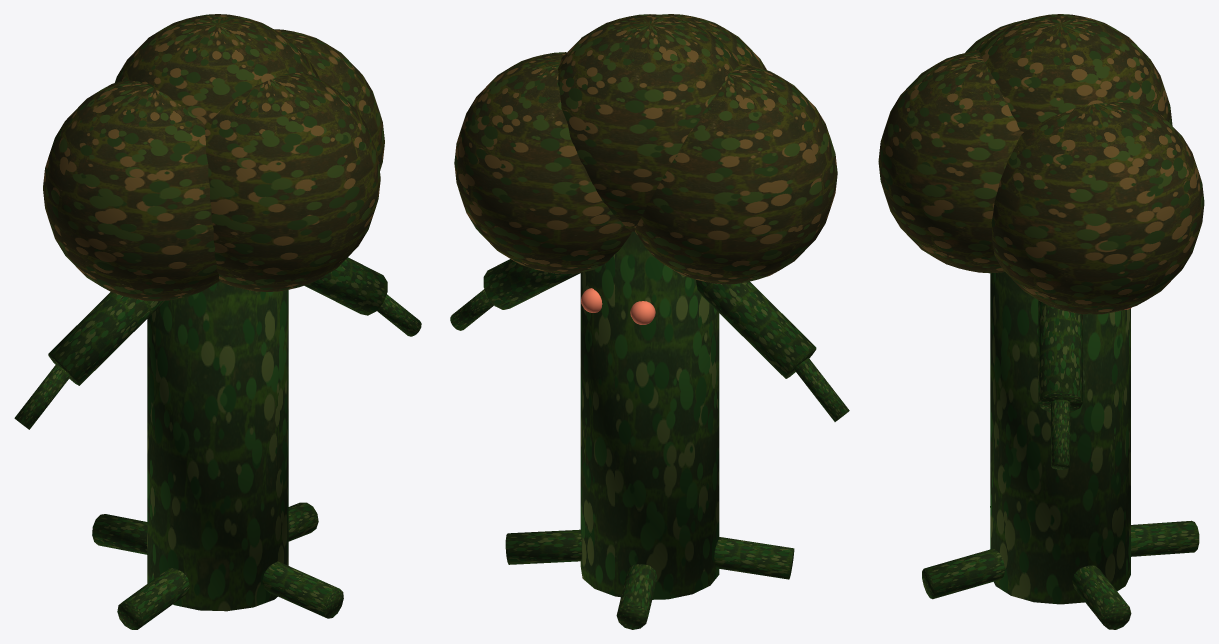
File: leshy.glb
The picture shows the model from 3 angles, left to right: view 1: azimuth 30°, elevation 25°; view 2: azimuth 150°, elevation 25°; view 3: azimuth 270°, elevation 25°; orthographic projection.
Visible parts, largest first — view 1: Trunk, Canopy.003, Canopy.002, Canopy, BranchArm, Canopy.001, BranchArm.001, Root.003, Root.002, Root.001, Twig, Root (+1 smaller); view 2: Trunk, Canopy.002, Canopy.001, Canopy, BranchArm, BranchArm.001, Root.002, Root, Root.001, Twig, Canopy.003, Twig.001; view 3: Canopy.001, Trunk, Canopy.003, Canopy, BranchArm.001, Root.003, Root.001, Root, Twig.001.
Boxes of the visible parts, left/top/right/bottom form: Trunk: left=147, top=281, right=288, bottom=611; Canopy.003: left=204, top=72, right=380, bottom=291; Canopy.002: left=43, top=80, right=219, bottom=301; Canopy: left=115, top=14, right=319, bottom=124; BranchArm: left=48, top=292, right=164, bottom=385; Canopy.001: left=274, top=29, right=384, bottom=170; BranchArm.001: left=304, top=257, right=387, bottom=315; Root.003: left=262, top=561, right=343, bottom=618; Root.002: left=117, top=567, right=189, bottom=629; Root.001: left=92, top=514, right=147, bottom=554; Twig: left=14, top=364, right=70, bottom=429; Root: left=288, top=502, right=318, bottom=541; Trunk: left=580, top=231, right=719, bottom=599; Canopy.002: left=635, top=63, right=837, bottom=284; Canopy.001: left=454, top=52, right=631, bottom=273; Canopy: left=558, top=14, right=741, bottom=231; BranchArm: left=696, top=280, right=816, bottom=378; BranchArm.001: left=483, top=259, right=580, bottom=309; Root.002: left=714, top=537, right=794, bottom=579; Root: left=505, top=529, right=581, bottom=564; Root.001: left=616, top=564, right=657, bottom=629; Twig: left=794, top=358, right=849, bottom=421; Canopy.003: left=661, top=14, right=766, bottom=69; Twig.001: left=450, top=289, right=493, bottom=330; Canopy.001: left=991, top=101, right=1204, bottom=314; Trunk: left=990, top=272, right=1130, bottom=604; Canopy.003: left=878, top=50, right=1021, bottom=273; Canopy: left=979, top=14, right=1172, bottom=133; BranchArm.001: left=1038, top=300, right=1082, bottom=412; Root.003: left=922, top=548, right=1004, bottom=599; Root.001: left=1131, top=520, right=1199, bottom=556; Root: left=1072, top=565, right=1131, bottom=629; Twig.001: left=1051, top=399, right=1070, bottom=469.
Size of the model in its own units: 0.7592 by 1 by 0.5368.
Materials: 3 (2 with a texture image).
